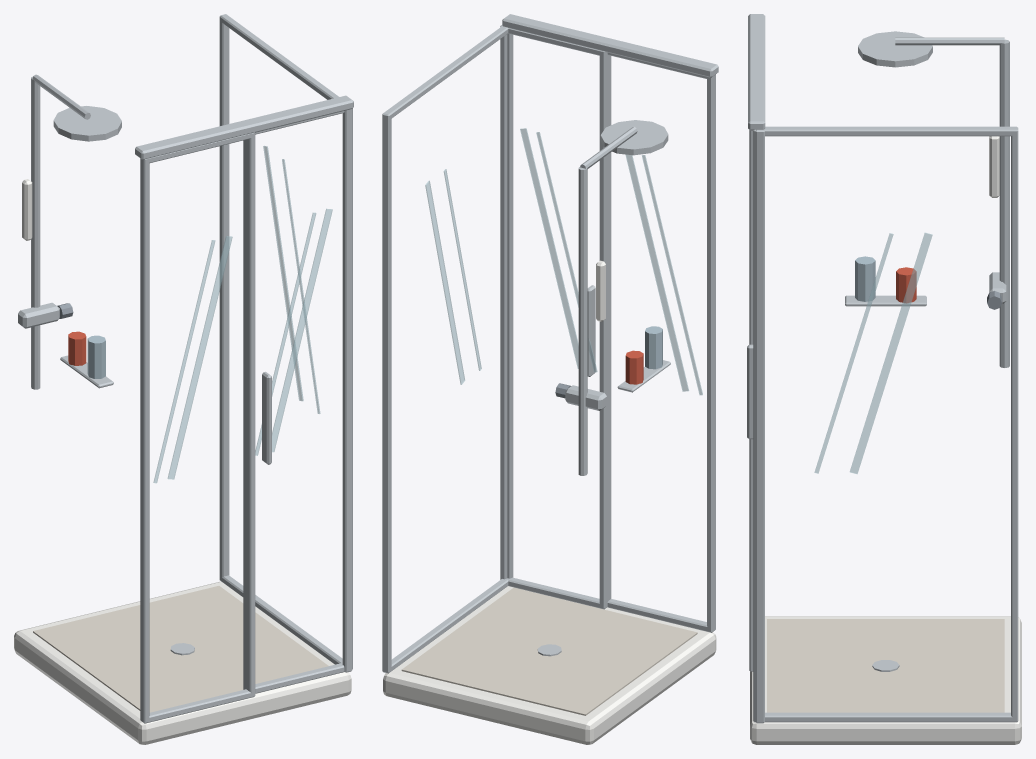
File: shower.glb
3 renders of one model, left to right at view 1: azimuth 30°, elevation 25°; view 2: azimuth 150°, elevation 25°; view 3: azimuth 270°, elevation 25°, orthographic. The views are drawn at different scales.
Visible parts, largest first — view 1: shower_Body; view 2: shower_Body; view 3: shower_Body.
Boxes of the visible parts, left/top/right/bottom form: shower_Body: left=14, top=14, right=353, bottom=744; shower_Body: left=382, top=14, right=718, bottom=744; shower_Body: left=747, top=14, right=1021, bottom=744.
Size of the model in its own units: 0.8 by 2 by 0.796.
